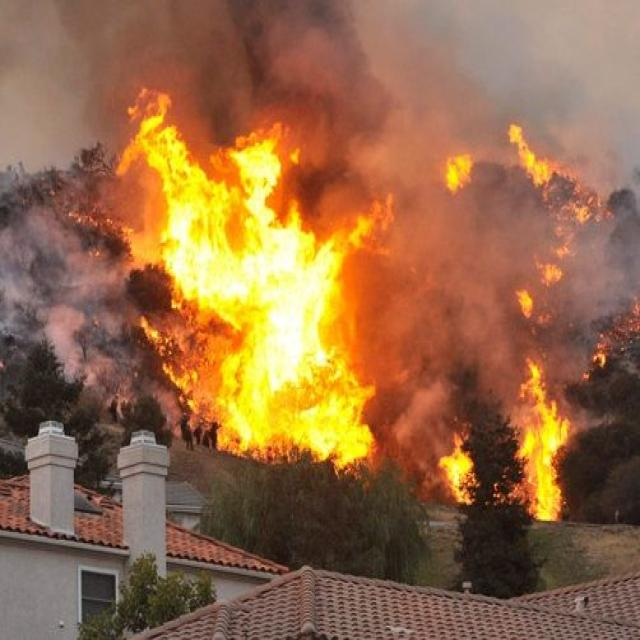Fire: (134, 113, 378, 471), (507, 378, 582, 522), (432, 446, 482, 511), (441, 144, 485, 205), (512, 118, 550, 177), (528, 257, 575, 293), (508, 286, 534, 321)
Smoke: (90, 0, 407, 175), (394, 167, 618, 390), (379, 7, 616, 129)
